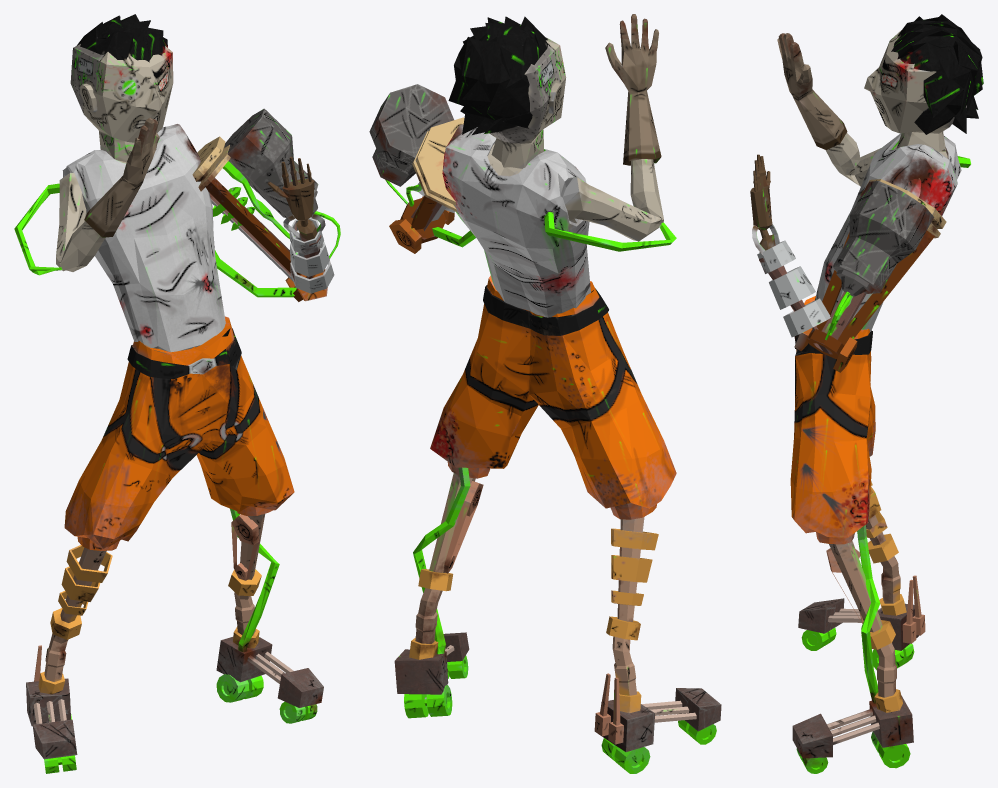
Rendered from CyborgFINALAnimation_000021.obj.
3 views of the same model, side by side, from view 1: azimuth 30°, elevation 25°; view 2: azimuth 150°, elevation 25°; view 3: azimuth 270°, elevation 25° (orthographic). The views are drawn at different scales.
Parts seen in each view (by area): view 1: CyborgMesh_Cube.002; view 2: CyborgMesh_Cube.002; view 3: CyborgMesh_Cube.002.
Boxes of the visible parts, <box> form: CyborgMesh_Cube.002: <box>14,14,340,773</box>; CyborgMesh_Cube.002: <box>369,14,721,773</box>; CyborgMesh_Cube.002: <box>750,14,983,773</box>.
Size of the model in its own units: 4.4 by 9.39 by 2.87.
